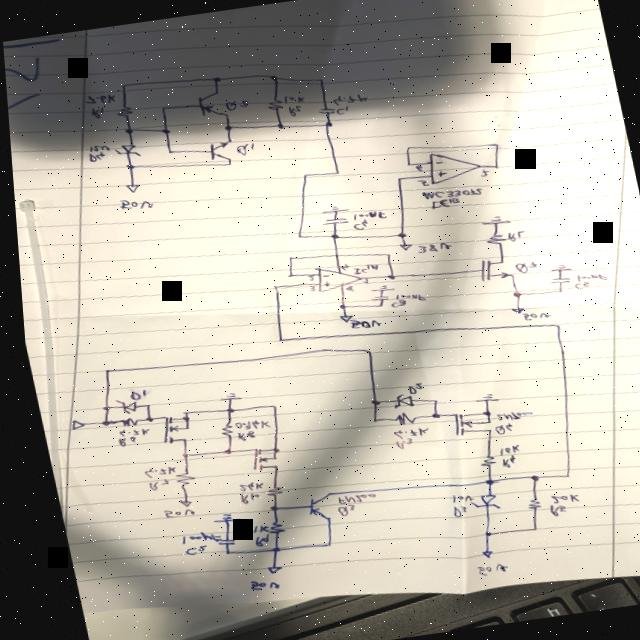capacitor: (316, 215, 348, 228), (366, 292, 387, 304), (544, 276, 569, 286), (208, 538, 227, 548), (316, 106, 335, 116)
crossover: (326, 253, 338, 260)
diode: (461, 494, 494, 514), (111, 143, 140, 160), (382, 393, 411, 410), (108, 398, 132, 417)
ground: (202, 512, 234, 526), (477, 215, 507, 227), (543, 262, 571, 274), (317, 205, 347, 216), (364, 284, 393, 294), (468, 392, 494, 403), (213, 392, 234, 402)
junction: (505, 291, 519, 299), (156, 128, 170, 136), (260, 546, 274, 554), (475, 478, 489, 486), (520, 474, 534, 482), (331, 304, 344, 312), (355, 348, 368, 356), (92, 420, 105, 428), (390, 176, 402, 184), (280, 272, 292, 280), (392, 232, 403, 240), (424, 412, 435, 420), (266, 284, 277, 292), (221, 125, 233, 132), (363, 400, 375, 407), (325, 234, 337, 241), (260, 506, 272, 513), (280, 255, 292, 262), (474, 531, 485, 538), (381, 274, 392, 281), (209, 77, 220, 84), (121, 128, 132, 135), (213, 550, 224, 557), (123, 163, 134, 170), (215, 450, 226, 456), (173, 452, 184, 458), (218, 408, 229, 414), (273, 124, 284, 130), (267, 76, 278, 82), (320, 122, 331, 128), (96, 369, 107, 375), (137, 417, 148, 423), (95, 406, 106, 412), (298, 173, 307, 180), (521, 526, 531, 532), (270, 338, 280, 344), (315, 542, 325, 548), (291, 234, 301, 240), (174, 410, 184, 416), (163, 150, 172, 156), (157, 106, 166, 112), (551, 289, 560, 295), (222, 162, 231, 168), (401, 162, 410, 168), (555, 474, 565, 479), (548, 324, 558, 329), (364, 418, 372, 424), (402, 146, 410, 152), (263, 404, 271, 410), (118, 84, 127, 89), (137, 404, 146, 409), (315, 78, 322, 84), (490, 164, 497, 170), (381, 253, 389, 258), (330, 172, 339, 176), (424, 400, 433, 404), (372, 304, 380, 308), (490, 144, 497, 148)
resistor: (164, 472, 189, 489), (470, 453, 492, 470), (385, 412, 410, 426), (257, 520, 278, 536), (481, 233, 504, 247), (113, 104, 133, 120), (256, 484, 277, 498), (517, 498, 536, 512), (263, 99, 283, 112), (212, 424, 229, 439), (113, 417, 133, 427)
source: (122, 183, 138, 195), (257, 565, 275, 575), (393, 243, 410, 253), (170, 498, 186, 508), (334, 314, 350, 324), (472, 550, 486, 560), (504, 307, 521, 315)
terminal: (62, 419, 79, 431)
text: (416, 184, 480, 204), (171, 530, 214, 548), (326, 492, 370, 508), (113, 196, 151, 214), (386, 290, 422, 308), (328, 92, 366, 108), (384, 426, 424, 441), (225, 418, 265, 433), (135, 464, 172, 480), (413, 240, 450, 256), (465, 562, 501, 578), (81, 92, 117, 108), (489, 409, 528, 423), (238, 578, 272, 594), (153, 506, 189, 521), (342, 317, 378, 332), (570, 270, 606, 284), (347, 210, 385, 223), (541, 492, 573, 507), (228, 480, 258, 494), (509, 260, 535, 276), (109, 427, 145, 438), (425, 198, 458, 210), (347, 262, 375, 276), (515, 310, 547, 322), (137, 479, 164, 493), (222, 99, 250, 112), (328, 503, 352, 518), (232, 142, 254, 158), (231, 491, 254, 506), (174, 544, 200, 557), (108, 436, 132, 449), (120, 389, 144, 402), (490, 444, 514, 457), (442, 492, 467, 504), (540, 503, 560, 518), (486, 422, 507, 436), (280, 94, 304, 106), (492, 455, 511, 470), (399, 382, 419, 396), (87, 107, 107, 121), (229, 430, 250, 443), (243, 534, 262, 548), (441, 505, 460, 519), (388, 438, 408, 451), (384, 298, 406, 309), (502, 230, 522, 242), (85, 152, 105, 164), (85, 144, 109, 154), (347, 220, 366, 232), (285, 105, 302, 118), (568, 281, 588, 291), (243, 524, 262, 534), (331, 106, 349, 116), (333, 262, 347, 272), (338, 286, 351, 294), (413, 180, 426, 188), (476, 169, 487, 178), (412, 165, 422, 174), (357, 278, 367, 285), (301, 276, 312, 282), (303, 286, 313, 292)
transistor: (442, 408, 491, 438), (150, 414, 188, 446), (240, 445, 277, 473), (194, 91, 228, 121), (297, 494, 330, 524), (471, 258, 506, 284), (204, 140, 235, 164)
